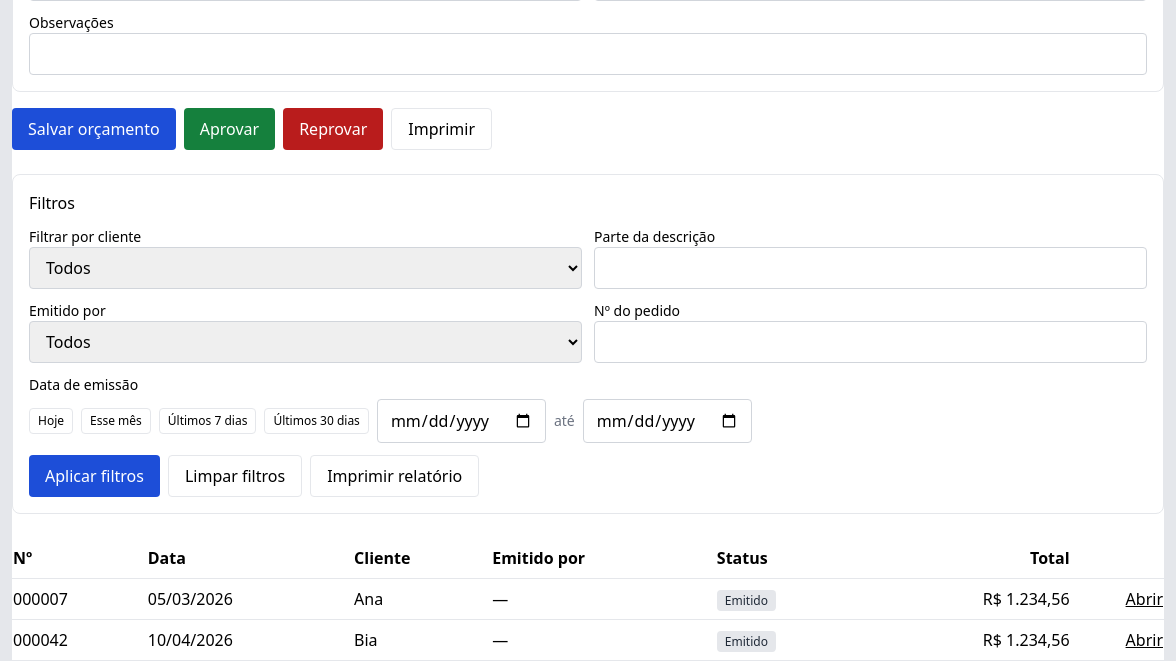
Test: PedidosPage › mostra o número do pedido e permite buscar por ele
This screenshot has width=1176, height=661.
(page scrolled)
Expected: the text "000007" is shown, [12,578,147,620]
Step 1. Type "000042" into the field labelled "Nº do pedido" → (870, 342), box [594,321,1147,363]
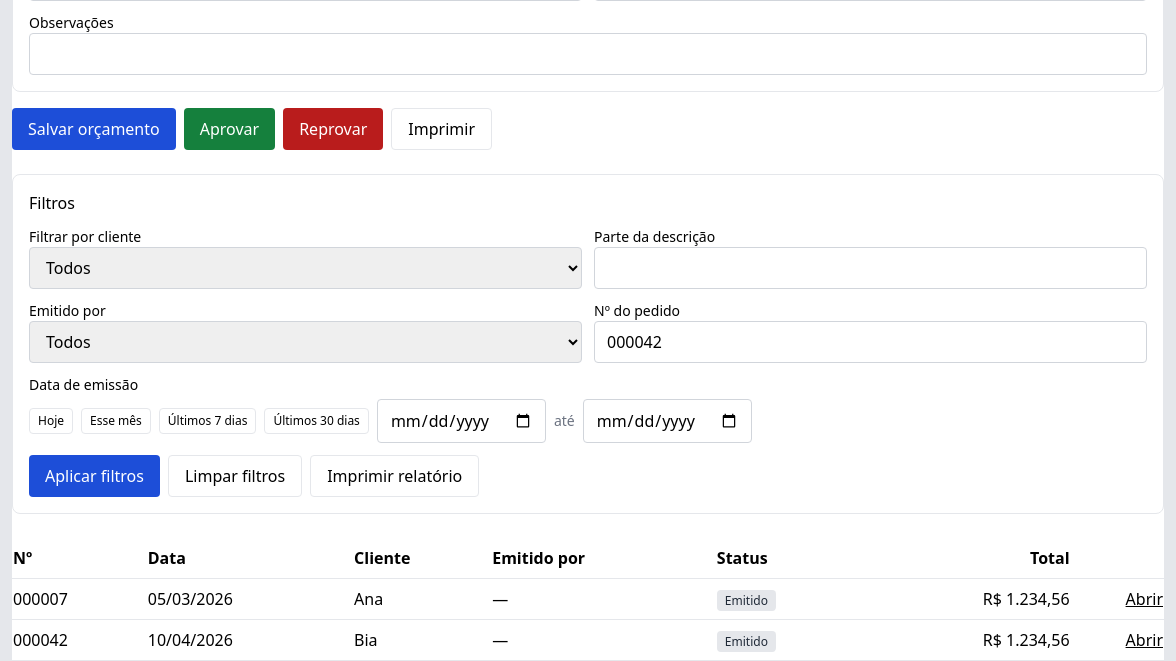
Step 2. Click the button "Aplicar filtros" → (94, 476), box [29,455,160,497]
(page scrolled)
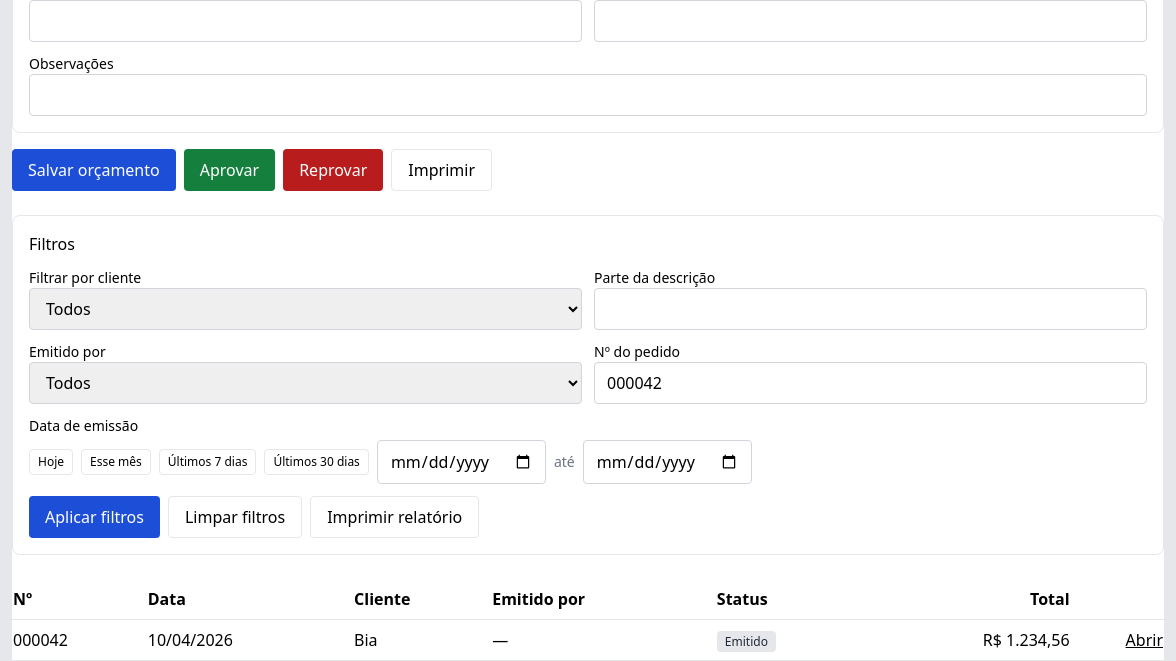
Expected: the text "000042" is shown, [12,620,147,660]
Now the text "000007" is gone
